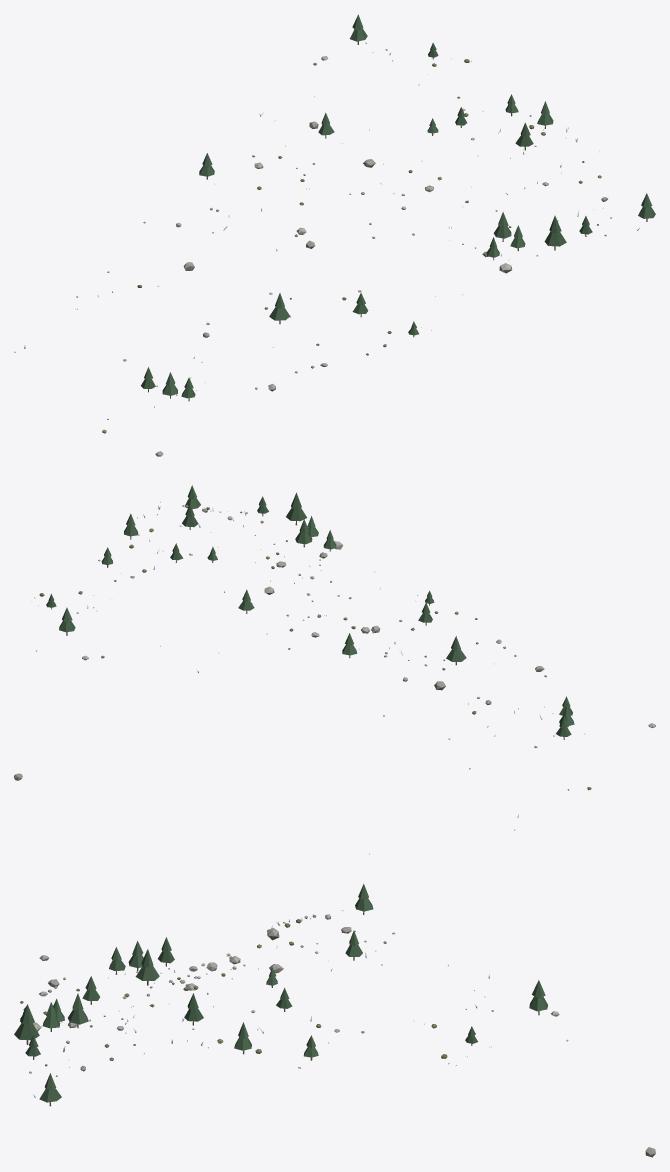
Rendered from coast_land_scatter_c10_15_lod1.glb.
3 views of the same model, one above another, from view 1: azimuth 30°, elevation 25°; view 2: azimuth 150°, elevation 25°; view 3: azimuth 270°, elevation 25° (orthographic). The views are drawn at different scales.
Visible parts, largest first — view 1: coast_land_scatter_c10_15_lod1; view 2: coast_land_scatter_c10_15_lod1; view 3: coast_land_scatter_c10_15_lod1.
Part boxes in pixels (x1=…): coast_land_scatter_c10_15_lod1: x1=14, y1=14, x2=655, y2=456; coast_land_scatter_c10_15_lod1: x1=14, y1=485, x2=655, y2=854; coast_land_scatter_c10_15_lod1: x1=14, y1=883, x2=655, y2=1157.
Bounding box in the file's own units: 256 × 101 × 245.
